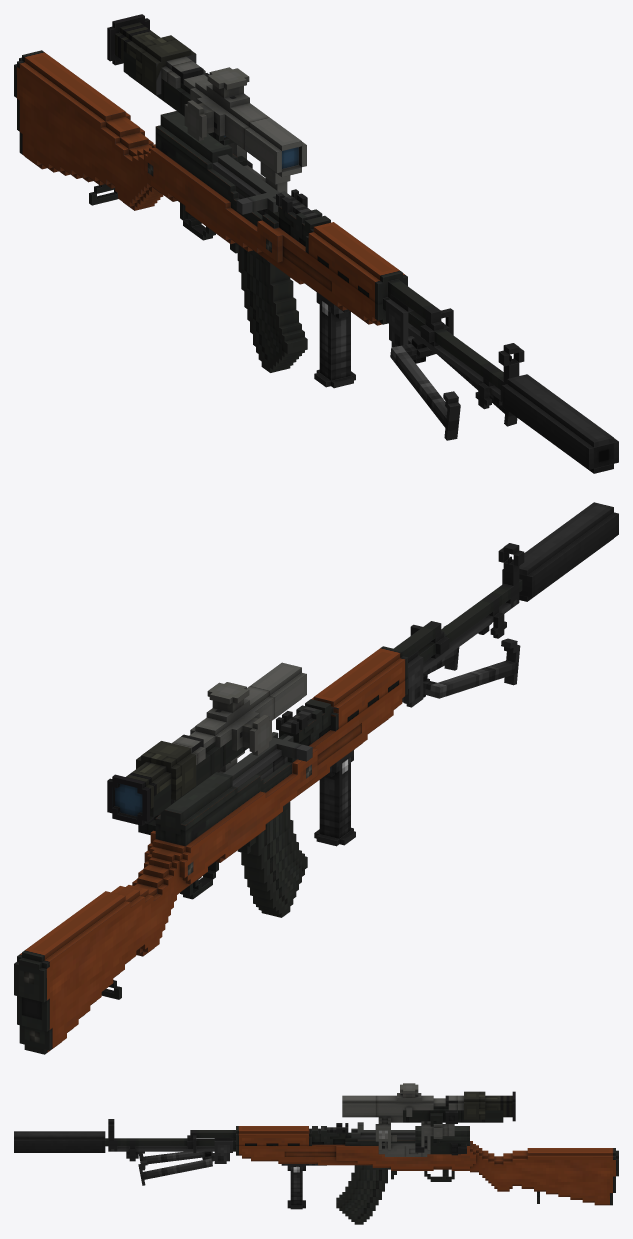
File: RD_SKS.glb
The picture shows the model from 3 angles, top to bottom: view 1: azimuth 30°, elevation 25°; view 2: azimuth 150°, elevation 25°; view 3: azimuth 270°, elevation 25°; orthographic projection. The views are drawn at different scales.
Visible parts, largest first — view 1: SKS, SCOPE_PSO1, SKS_CLIP, SILENCER_6X6, GRIP1, DIPOD1_LEG1, SKS_BOLT, SKS_SCOPE, DIPOD1_BODY; view 2: SKS, SCOPE_PSO1, SILENCER_6X6, SKS_CLIP, GRIP1, SKS_BOLT, DIPOD1_LEG1, SKS_SCOPE, DIPOD1_BODY; view 3: SKS, SCOPE_PSO1, SKS_CLIP, SILENCER_6X6, SKS_SCOPE, DIPOD1_LEG2, GRIP1, DIPOD1_LEG1, SKS_BOLT, DIPOD1_BODY.
Part boxes in pixels (<box>): SKS: <box>14,50,524,409</box>; SCOPE_PSO1: <box>107,14,306,192</box>; SKS_CLIP: <box>236,243,307,372</box>; SILENCER_6X6: <box>502,374,618,473</box>; GRIP1: <box>305,283,355,388</box>; DIPOD1_LEG1: <box>390,345,460,440</box>; SKS_BOLT: <box>212,154,290,215</box>; SKS_SCOPE: <box>123,51,252,168</box>; DIPOD1_BODY: <box>386,294,413,347</box>; SKS: <box>14,543,524,1054</box>; SCOPE_PSO1: <box>107,662,306,825</box>; SILENCER_6X6: <box>502,502,618,601</box>; SKS_CLIP: <box>241,802,307,917</box>; GRIP1: <box>314,749,355,846</box>; SKS_BOLT: <box>223,732,312,787</box>; DIPOD1_LEG1: <box>423,638,520,698</box>; SKS_SCOPE: <box>138,734,247,834</box>; DIPOD1_BODY: <box>404,651,423,707</box>; SKS: <box>105,1119,618,1205</box>; SCOPE_PSO1: <box>342,1083,515,1156</box>; SKS_CLIP: <box>336,1165,390,1224</box>; SILENCER_6X6: <box>14,1131,105,1152</box>; SKS_SCOPE: <box>403,1095,503,1155</box>; DIPOD1_LEG2: <box>138,1158,212,1185</box>; GRIP1: <box>281,1164,326,1209</box>; DIPOD1_LEG1: <box>138,1151,212,1170</box>; SKS_BOLT: <box>351,1122,415,1139</box>; DIPOD1_BODY: <box>214,1138,232,1163</box>.
Bounding box in the file's own units: 0.1378 × 0.4822 × 1.96.
Materials: 5 (5 with a texture image).
